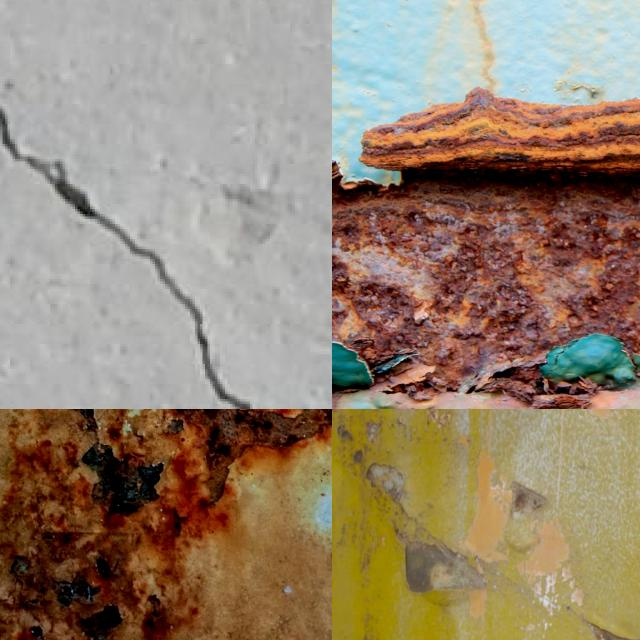Crack: (0, 109, 249, 409)
Pitting Corrosion: (0, 409, 332, 640), (332, 171, 640, 388)
Uniform Corrosion: (360, 88, 640, 174)
